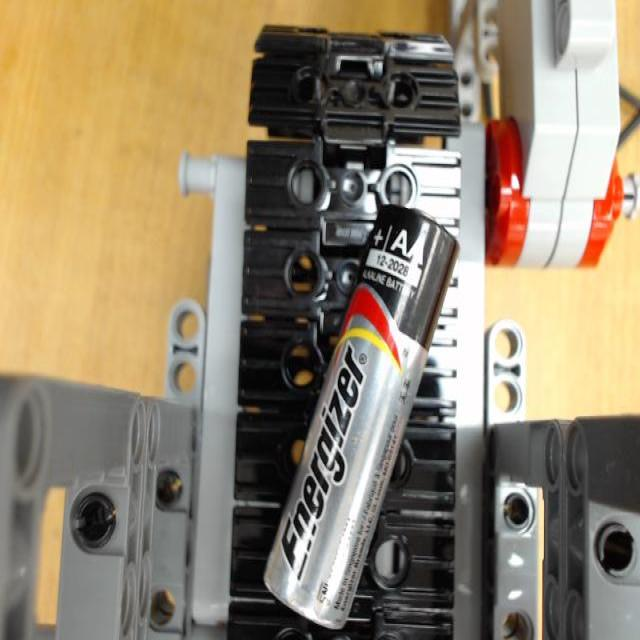AA: (258, 203, 458, 632)
